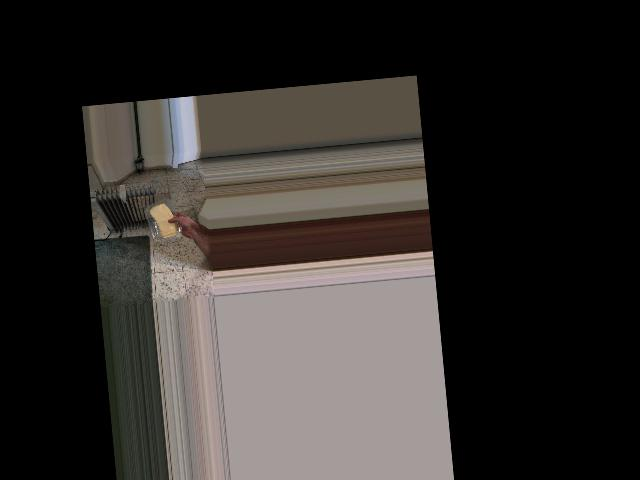cheese: (148, 198, 180, 241)
